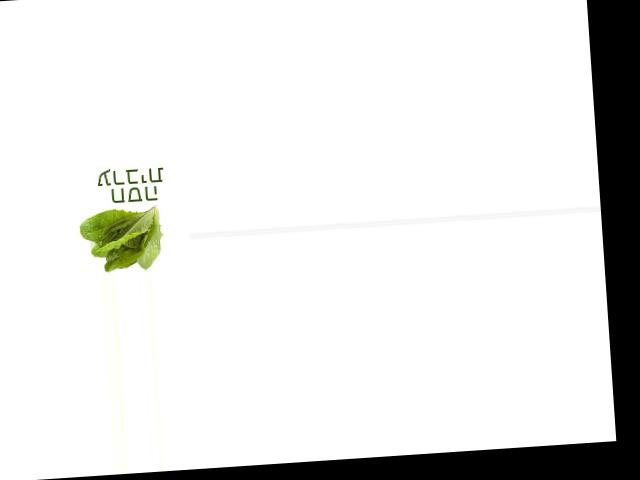lettuce: (77, 198, 169, 273)
